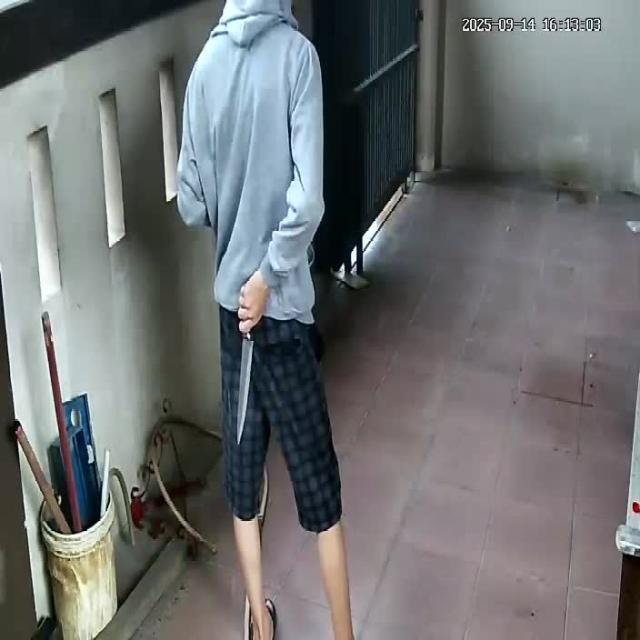senjata_tajam: (235, 331, 257, 446)
